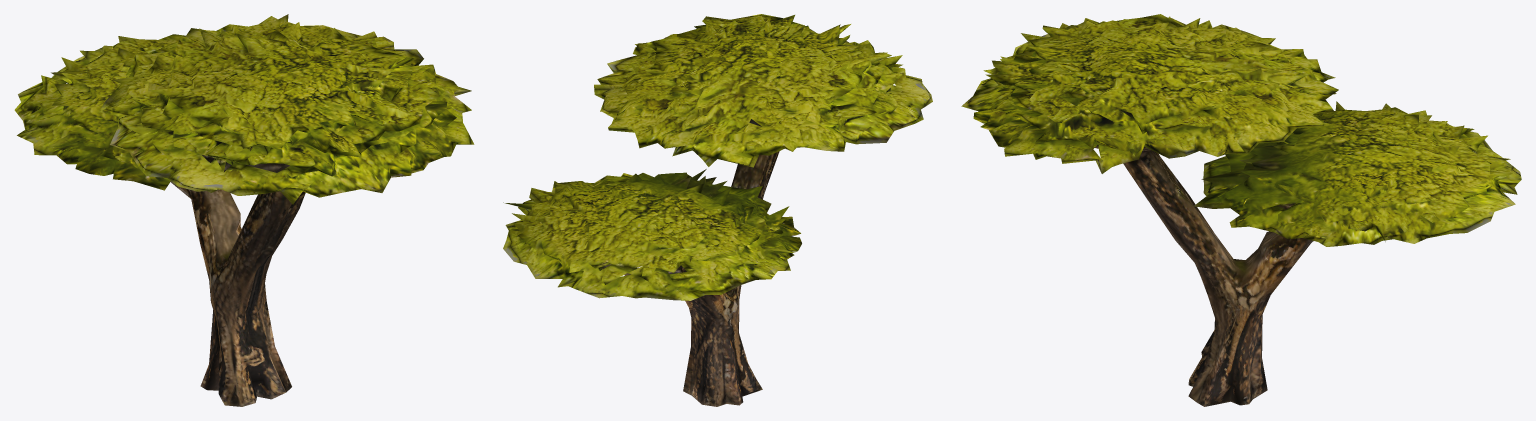
File: acacia_b.glb
The picture shows the model from 3 angles, left to right: view 1: azimuth 30°, elevation 25°; view 2: azimuth 150°, elevation 25°; view 3: azimuth 270°, elevation 25°; orthographic projection. The views are drawn at different scales.
Visible parts, largest first — view 1: tripo_node_49c370b5-9ebb-428f-9b13-7e51b57468a9; view 2: tripo_node_49c370b5-9ebb-428f-9b13-7e51b57468a9; view 3: tripo_node_49c370b5-9ebb-428f-9b13-7e51b57468a9.
Part boxes in pixels (bbox=[...]): tripo_node_49c370b5-9ebb-428f-9b13-7e51b57468a9: bbox=[14, 14, 474, 406]; tripo_node_49c370b5-9ebb-428f-9b13-7e51b57468a9: bbox=[503, 14, 932, 406]; tripo_node_49c370b5-9ebb-428f-9b13-7e51b57468a9: bbox=[961, 14, 1521, 406].
Bounding box in the file's own units: 0.6354 × 0.6544 × 0.9833.
1 material, 1 textured.
